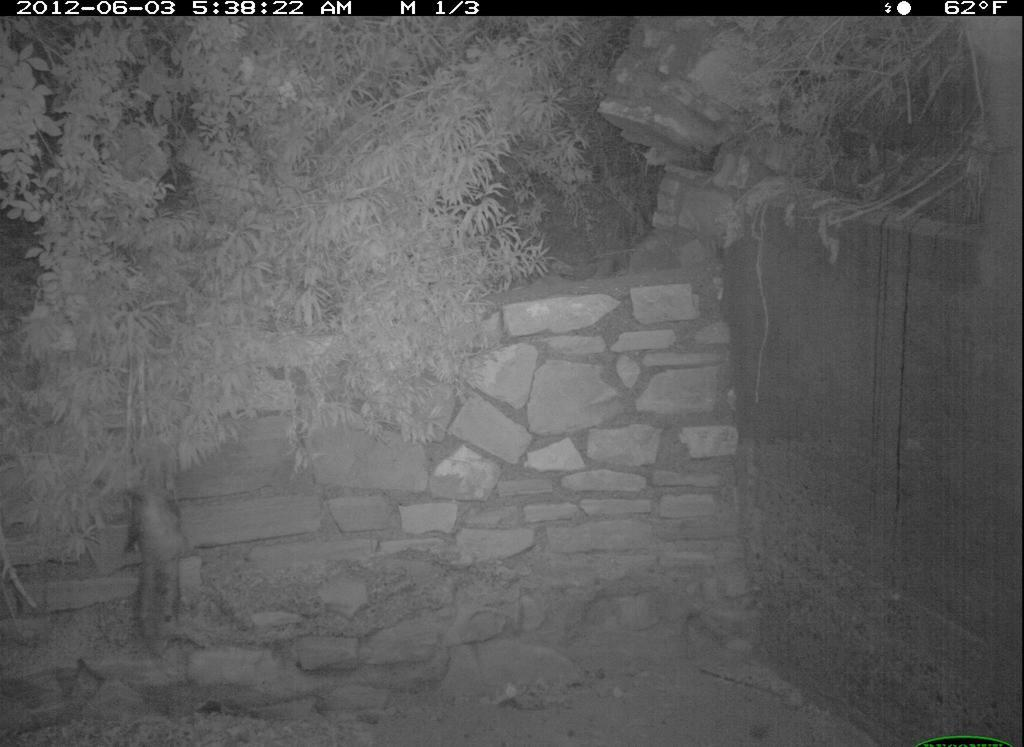opossum: (112, 463, 199, 649)
